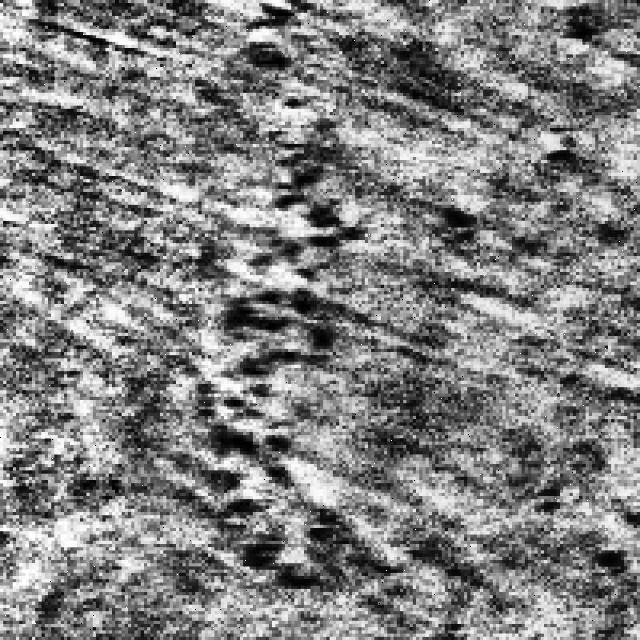Crazing: (196, 111, 390, 614)
